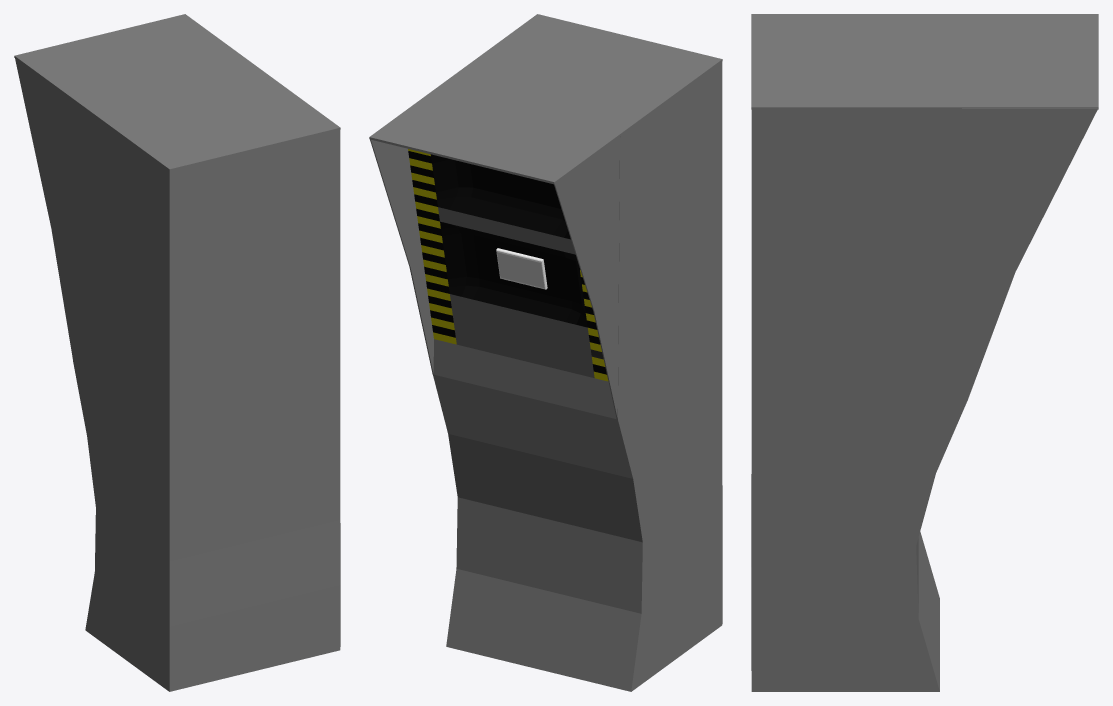
File: radar.obj
3 views of the same model, side by side, from view 1: azimuth 30°, elevation 25°; view 2: azimuth 150°, elevation 25°; view 3: azimuth 270°, elevation 25° (orthographic). The views are drawn at different scales.
Parts seen in each view (by area): view 1: Cube_Cube.001; view 2: Cube_Cube.001; view 3: Cube_Cube.001.
Boxes of the visible parts, <box> form: Cube_Cube.001: <box>14,14,340,691</box>; Cube_Cube.001: <box>369,14,722,691</box>; Cube_Cube.001: <box>751,14,1098,691</box>.
Bounding box in the file's own units: 2 × 5.84 × 3.15.
1 material, 1 textured.
